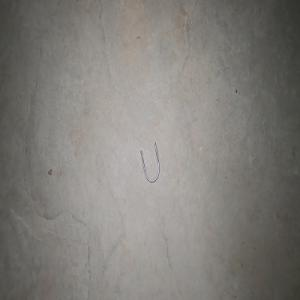ClampPart: (140, 141, 160, 183)
